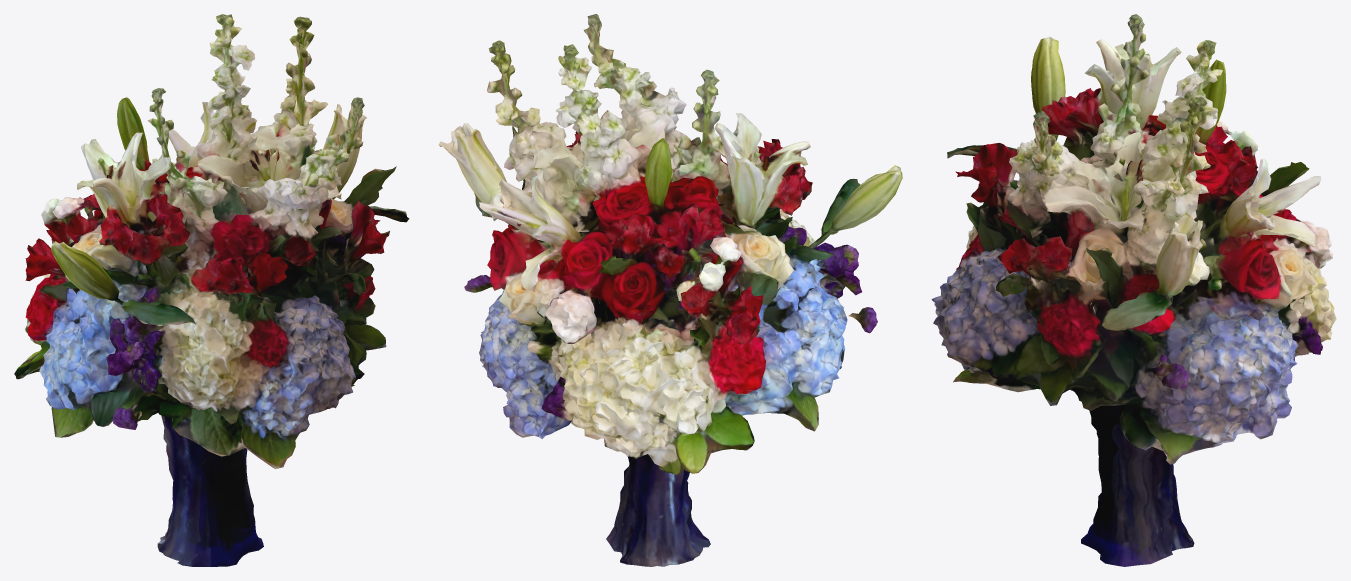
Rendered from bouquet.glb.
The picture shows the model from 3 angles, left to right: view 1: azimuth 30°, elevation 25°; view 2: azimuth 150°, elevation 25°; view 3: azimuth 270°, elevation 25°; orthographic projection. The views are drawn at different scales.
Visible parts, largest first — view 1: Object_4; view 2: Object_4; view 3: Object_4.
Part boxes in pixels (<box>): Object_4: <box>14,14,409,566</box>; Object_4: <box>438,14,902,566</box>; Object_4: <box>931,14,1336,566</box>.
Size of the model in its own units: 0.4903 by 0.6034 by 0.4209.
1 material, 1 textured.
